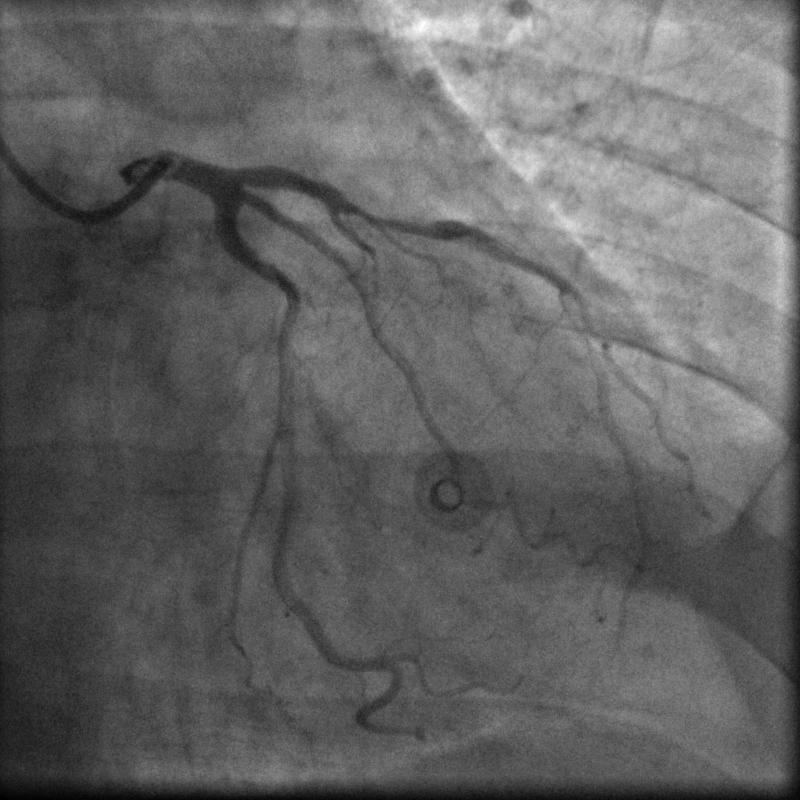Stenosis: (340, 198, 422, 237)
